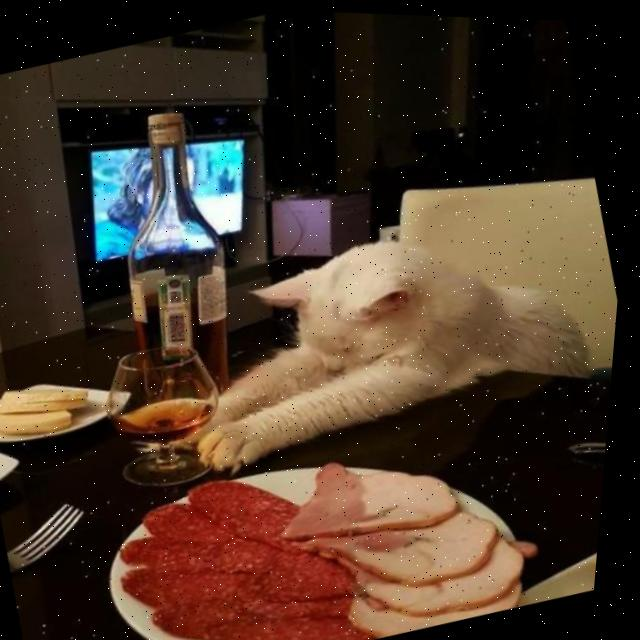Cats: (202, 154, 631, 485)
